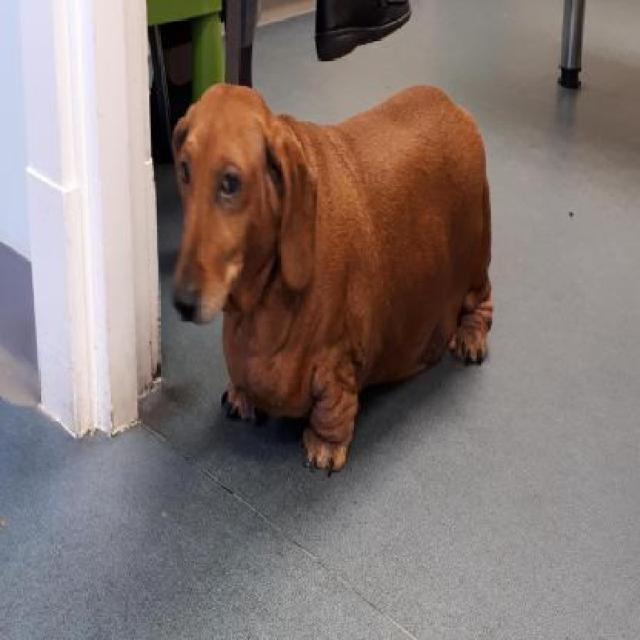Dog: (166, 73, 494, 484)
